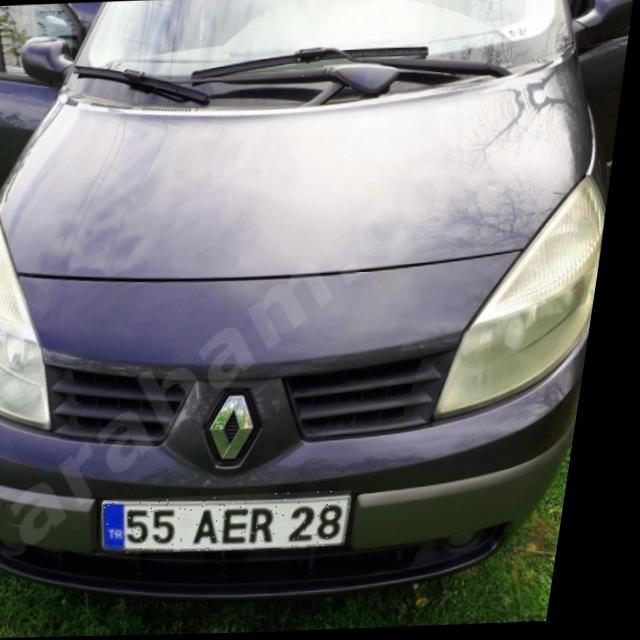license_plate: (112, 492, 368, 555)
